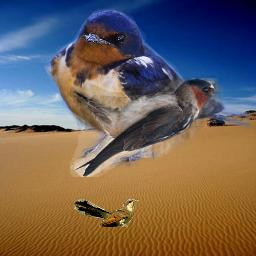Cuckoo: (74, 199, 139, 227)
Swallow: (44, 8, 251, 167), (70, 78, 223, 177)
